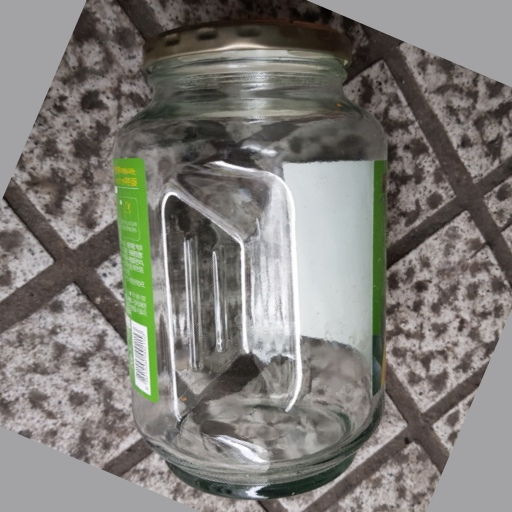Glass_5: (114, 24, 392, 496)
